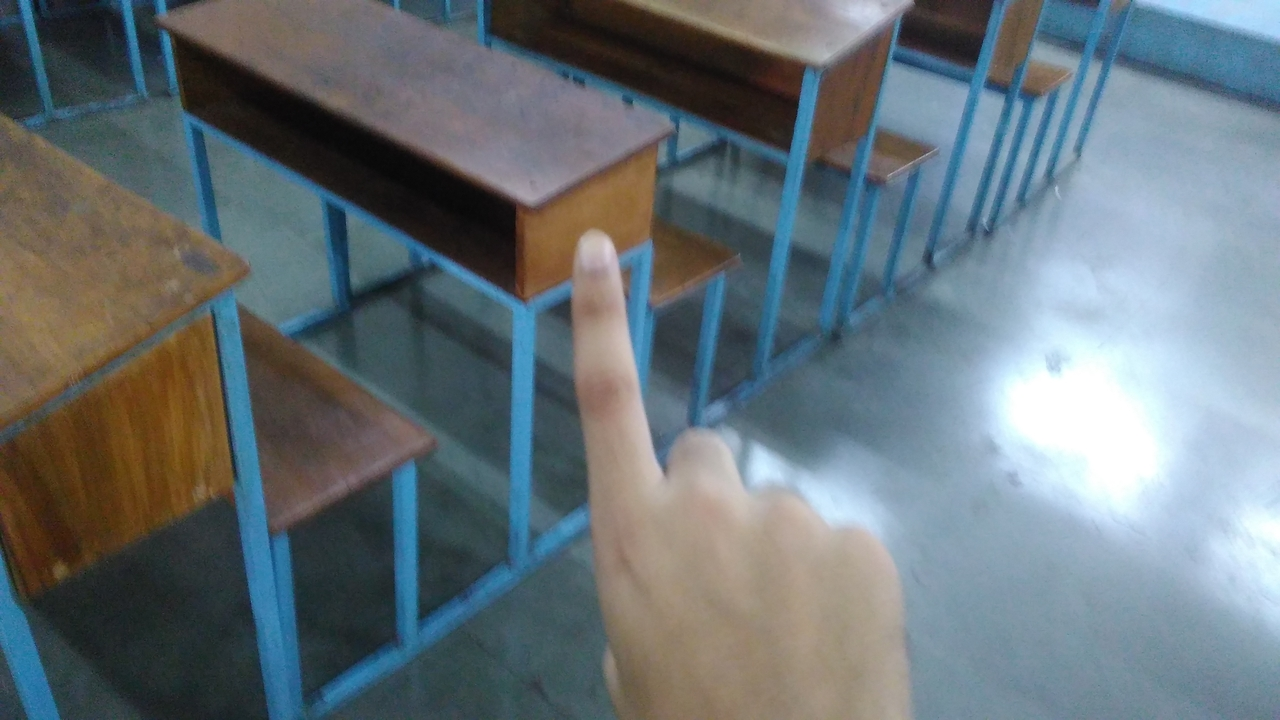fingertip: (562, 226, 624, 288)
